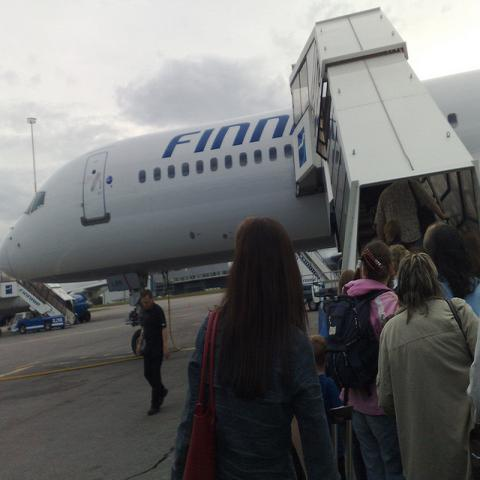truck: (15, 311, 64, 334)
